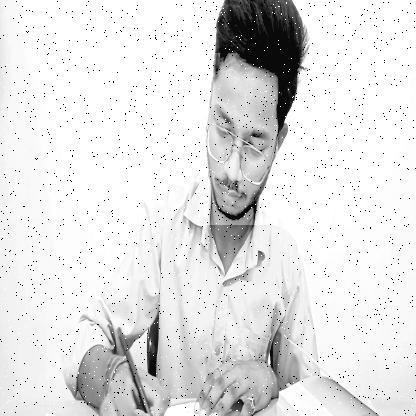Distracted: (204, 53, 278, 225)
